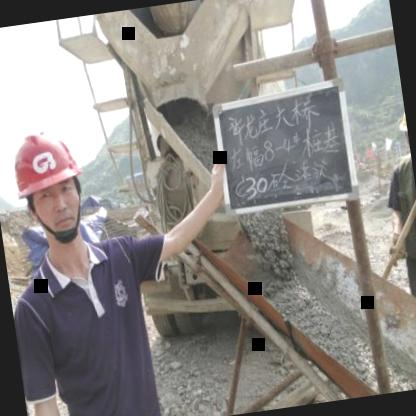helmet: (1, 108, 99, 256)
